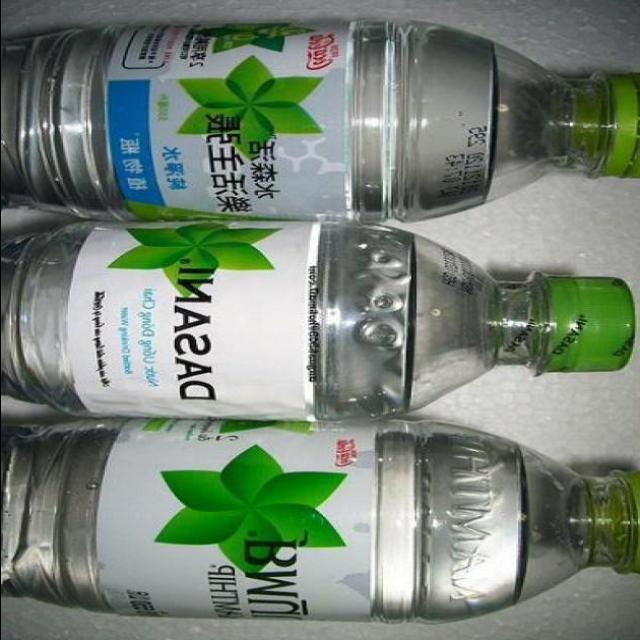plastik: (0, 420, 640, 622), (0, 21, 640, 222), (0, 224, 634, 419)
